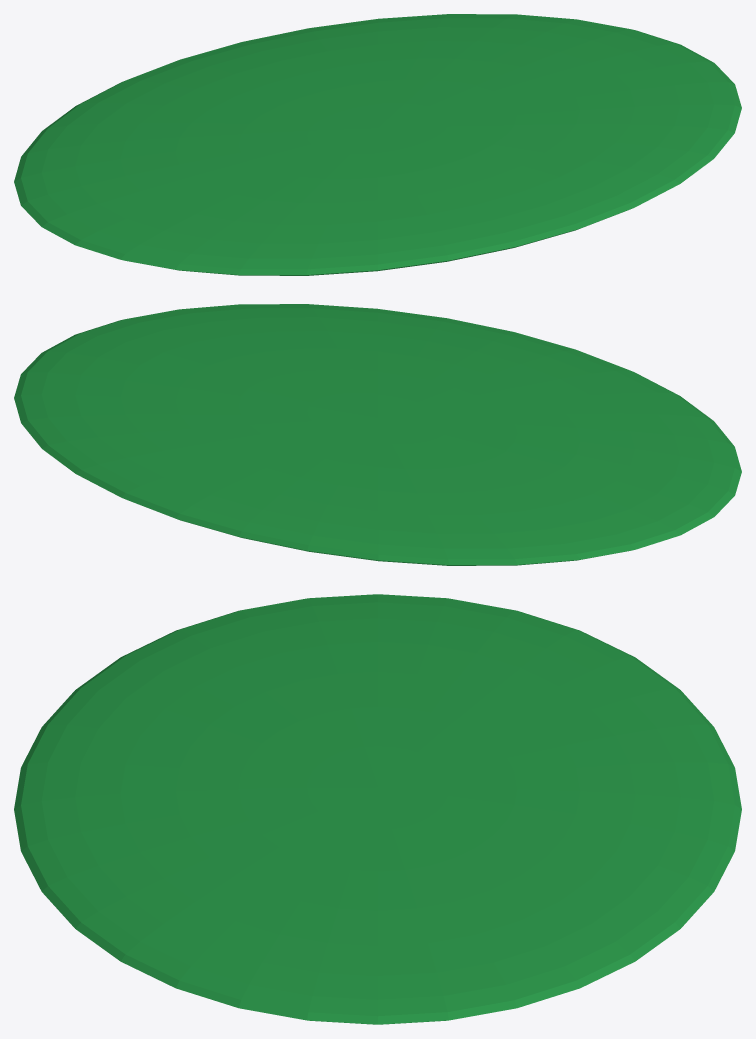
File: zimenn.obj
3 views of the same model, one above another, from view 1: azimuth 30°, elevation 25°; view 2: azimuth 150°, elevation 25°; view 3: azimuth 270°, elevation 25° (orthographic). The views are drawn at different scales.
Parts seen in each view (by area): view 1: 立方体; view 2: 立方体; view 3: 立方体.
Boxes of the visible parts, x1,y1,x2,y2 form: 立方体: (14,14,741,275); 立方体: (14,304,741,565); 立方体: (14,594,741,1024).
Bounding box in the file's own units: 43592 × 2079 × 31167.
1 material, 1 textured.
